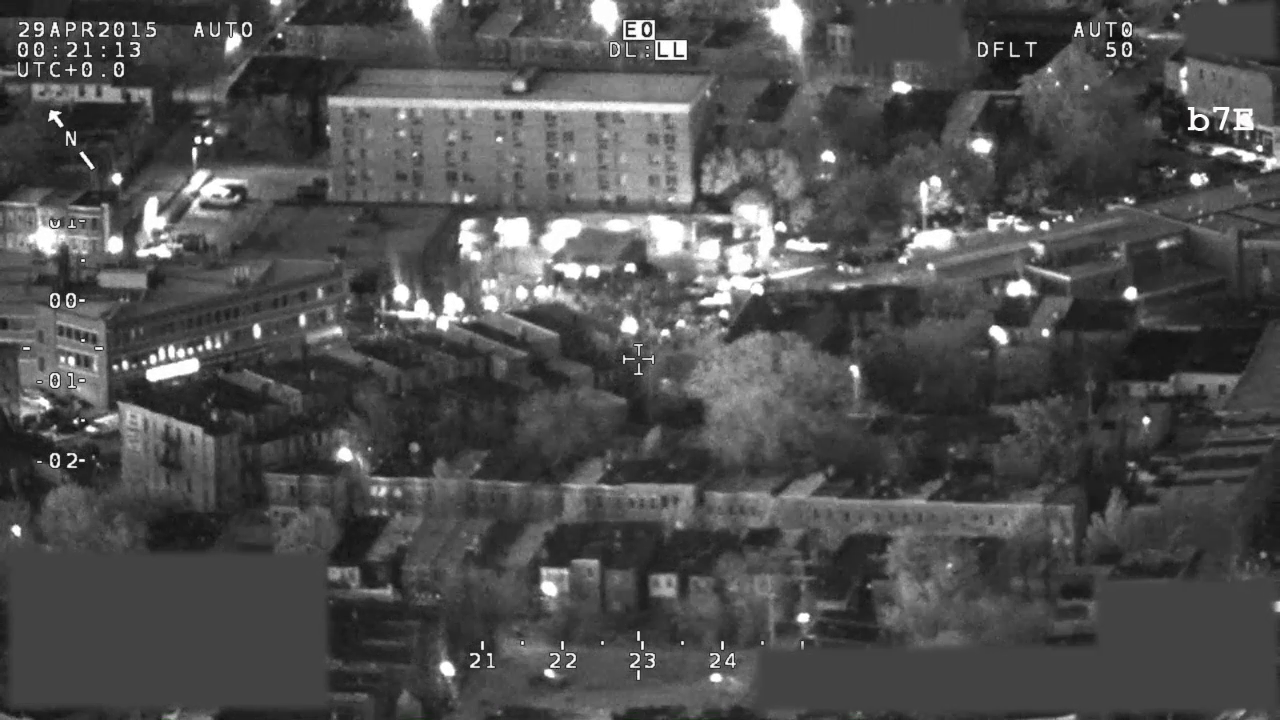vehicle: (893, 226, 969, 267), (681, 267, 734, 300), (986, 210, 1038, 238), (83, 407, 126, 440), (195, 181, 243, 210), (131, 237, 184, 263), (779, 232, 833, 257), (170, 232, 210, 254)
